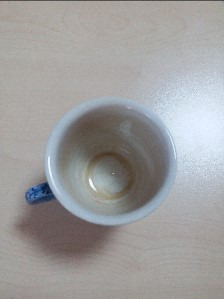cup: (36, 99, 178, 230)
